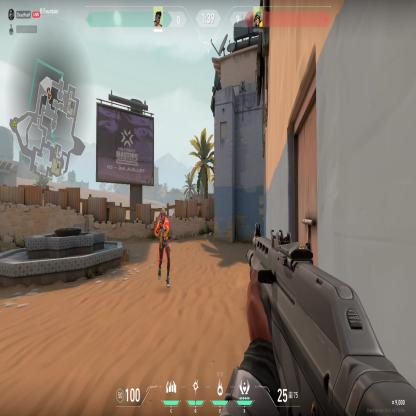enemy: (152, 204, 172, 290)
